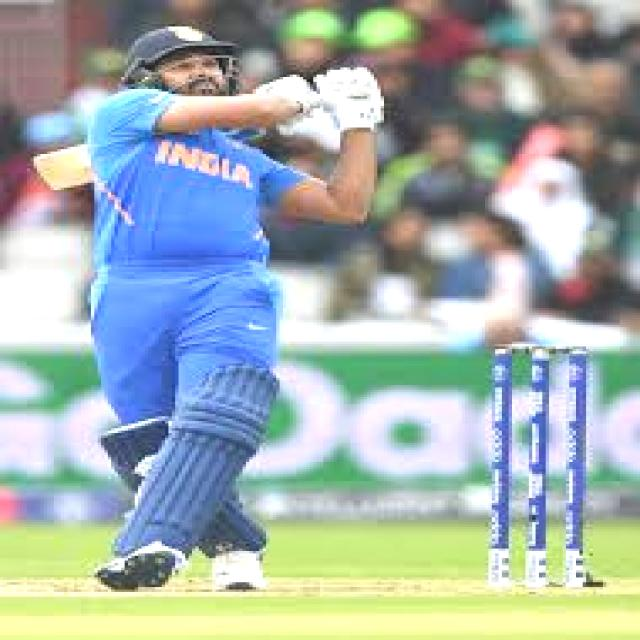toe: (13, 150, 74, 198)
